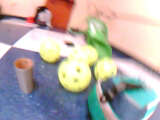Ball: (58, 61, 91, 92), (70, 42, 99, 69), (95, 58, 119, 82), (40, 42, 62, 63)
